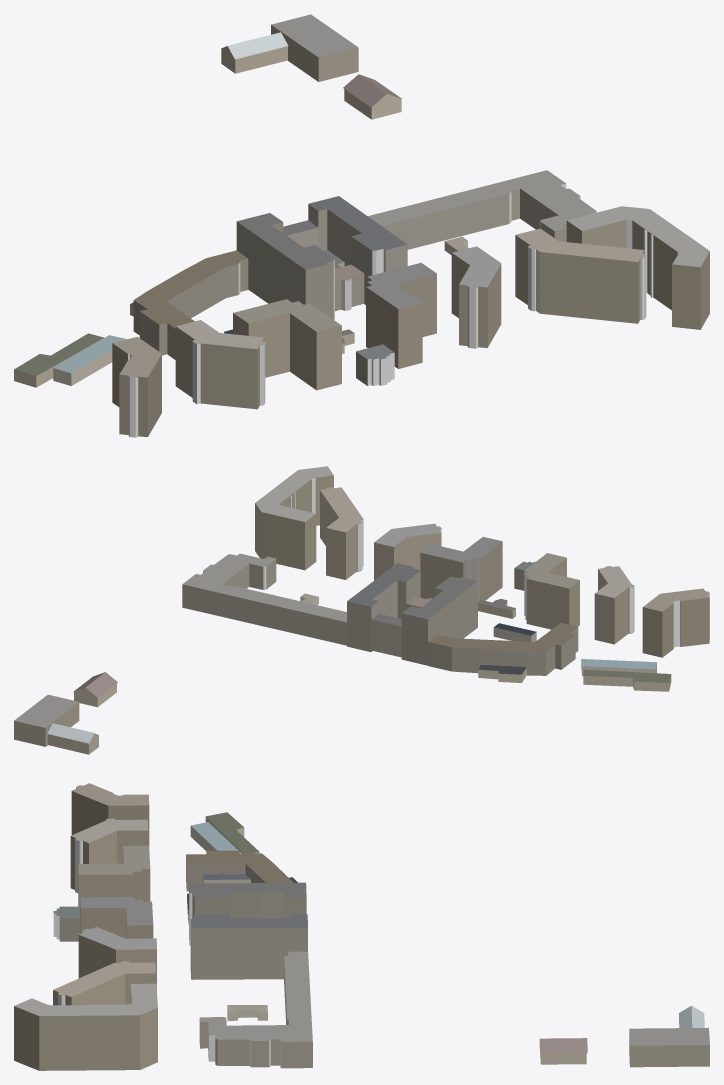
3 renders of one model, top to bottom at view 1: azimuth 30°, elevation 25°; view 2: azimuth 150°, elevation 25°; view 3: azimuth 270°, elevation 25°, orthographic. The views are drawn at different scales.
Parts seen in each view (by area): view 1: tuile; view 2: tuile; view 3: tuile.
Boxes of the visible parts, x1,y1,x2,y2 form: tuile: (14, 14, 709, 437); tuile: (14, 466, 709, 754); tuile: (14, 783, 709, 1070).
Bounding box in the file's own units: 235 × 25.65 × 276.
